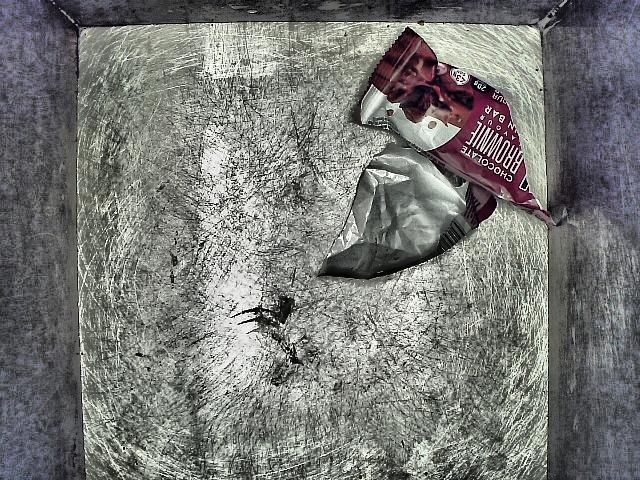Plastic: (347, 27, 552, 212), (302, 156, 501, 288)
